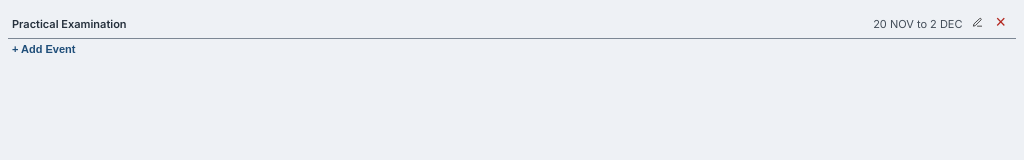
Scenario: MilestoneColumn › opens a multi-day event's edit form with Range pre-checked and the end date pre-filled
Click the button titled "Move this event" at (976, 24), box [968, 17, 984, 30]
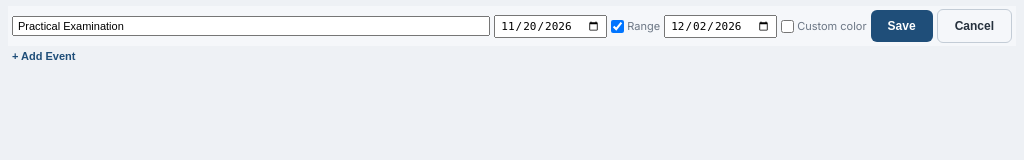
Expected: the checkbox labelled "Range" is checked, [611, 20, 624, 32]
Expected: the number of date fields is 2, [494, 14, 607, 38]; [664, 14, 777, 38]
Expected: the 2nd date field holds "2026-12-02", [664, 14, 777, 38]
